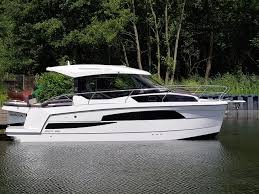boat: (1, 57, 246, 143)
